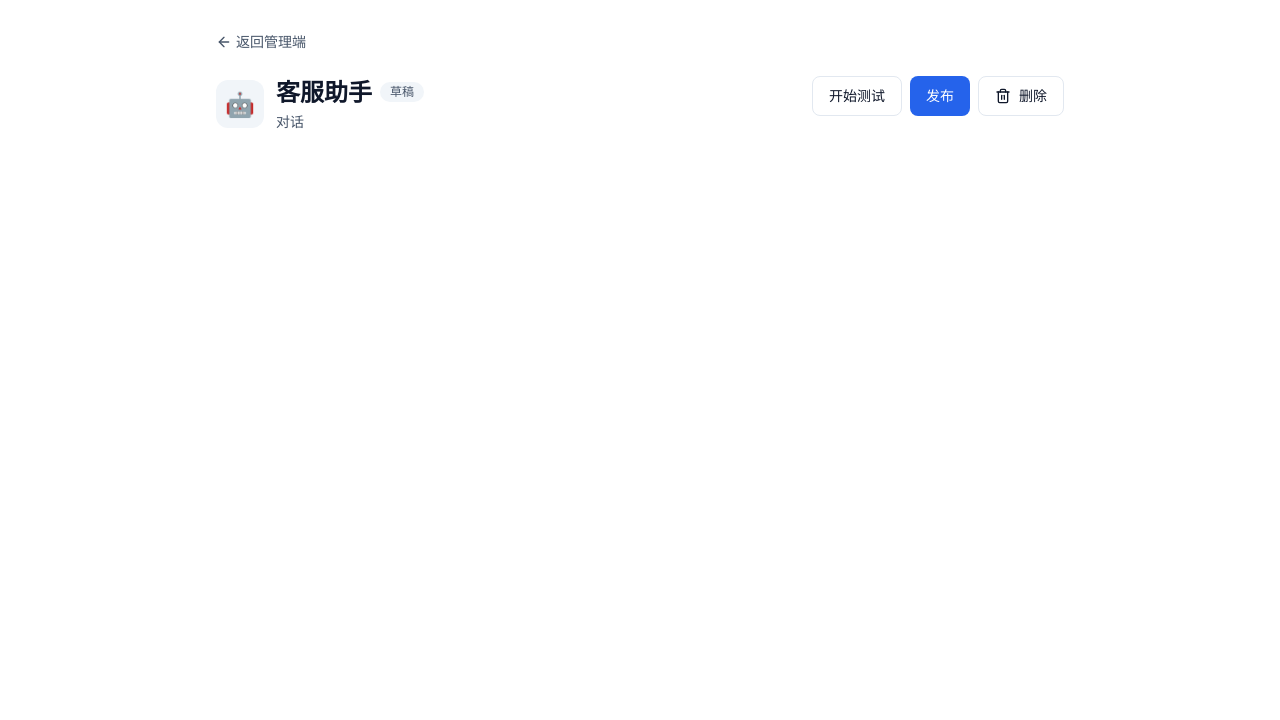
it: AgentDetailPage publish failures › shows the offline message instead of the version-conflict dialog for 409 INVALID_STATE
This screenshot has width=1280, height=720.
Click the button "发布" at point(940, 96), box [910,76,970,116]
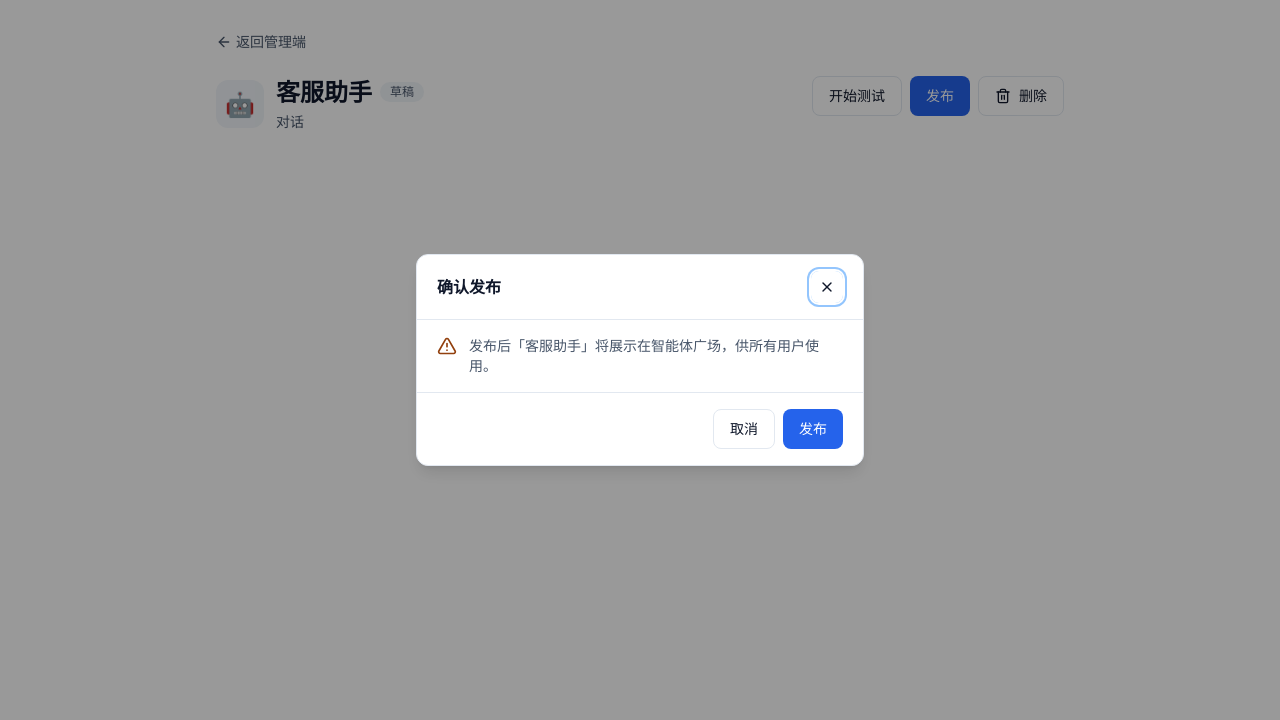
Click the button "发布" at point(813, 429), box [783,409,843,449]
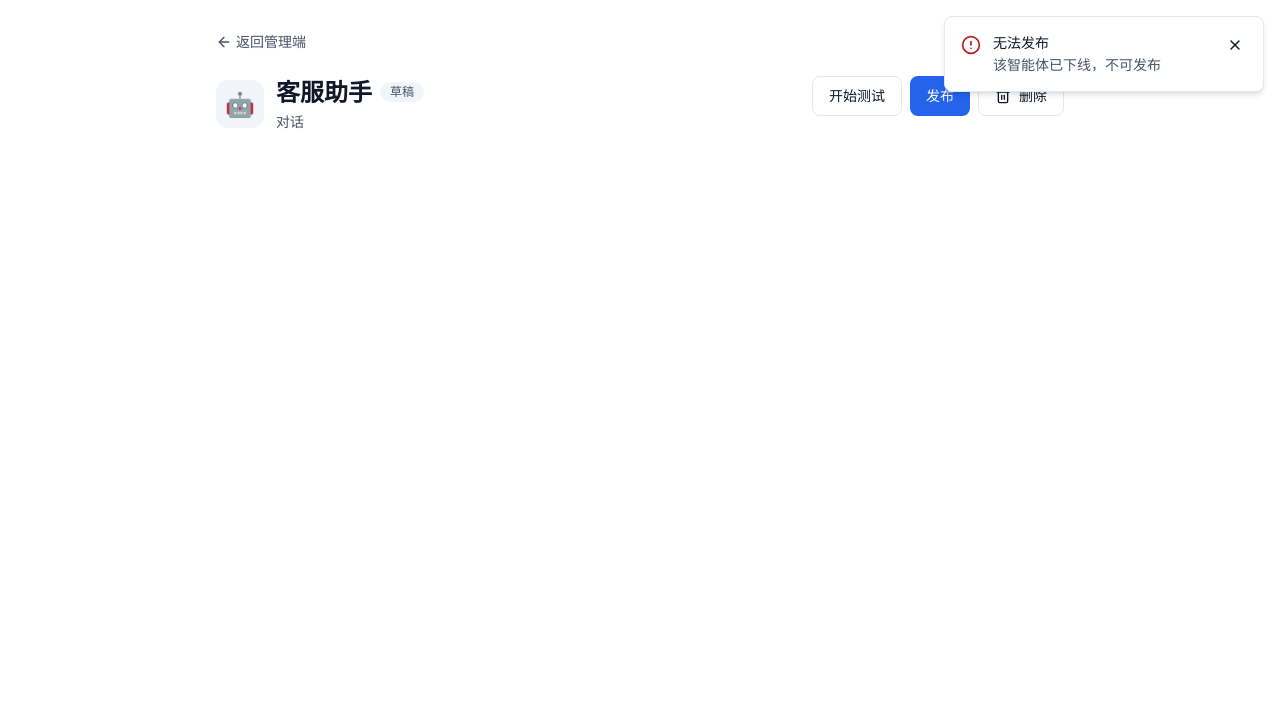
Expected: the text "该智能体已下线，不可发布" is shown, [993,55,1161,74]
